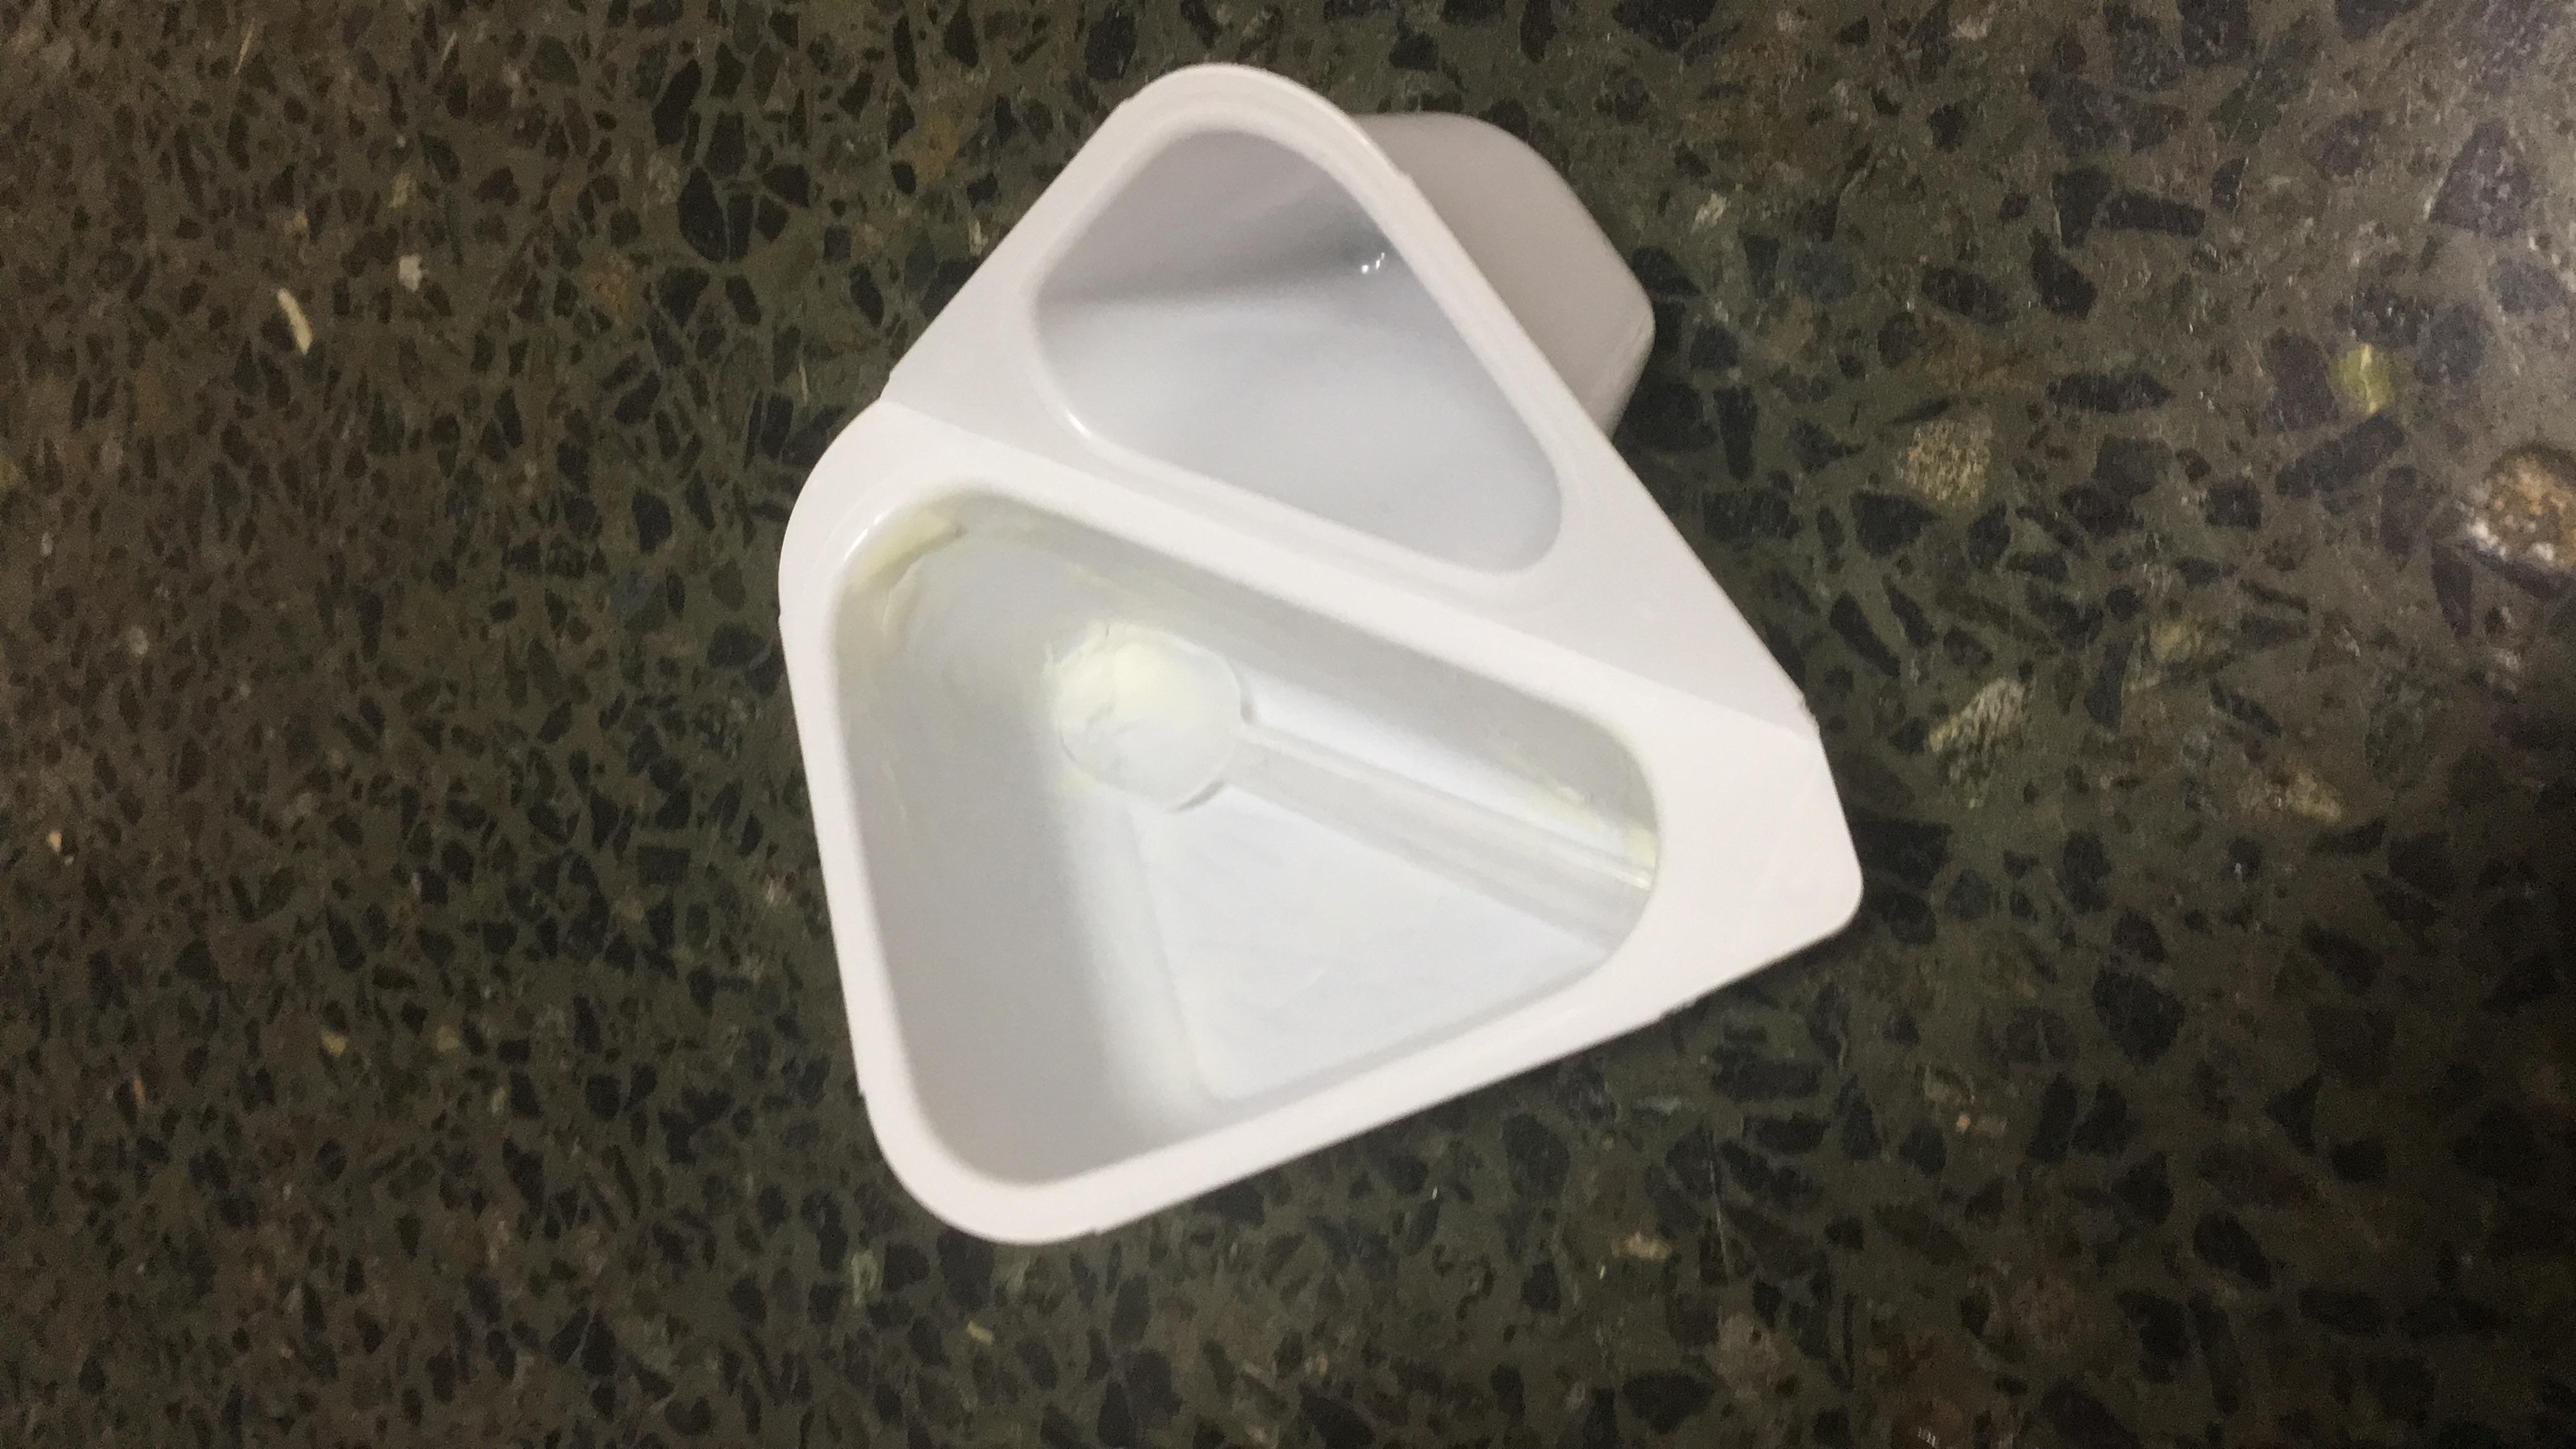bottle: (1325, 400, 1511, 1051)
